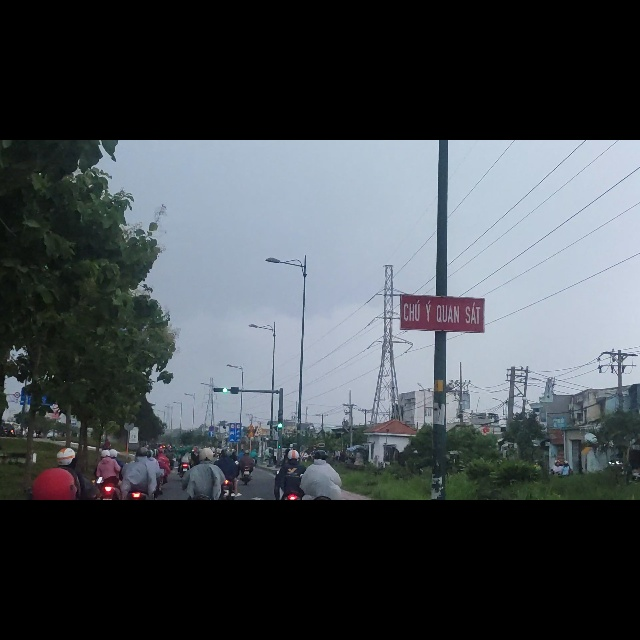bien_cam: (229, 513, 242, 537), (247, 503, 255, 516), (247, 516, 255, 529), (209, 518, 215, 528)
